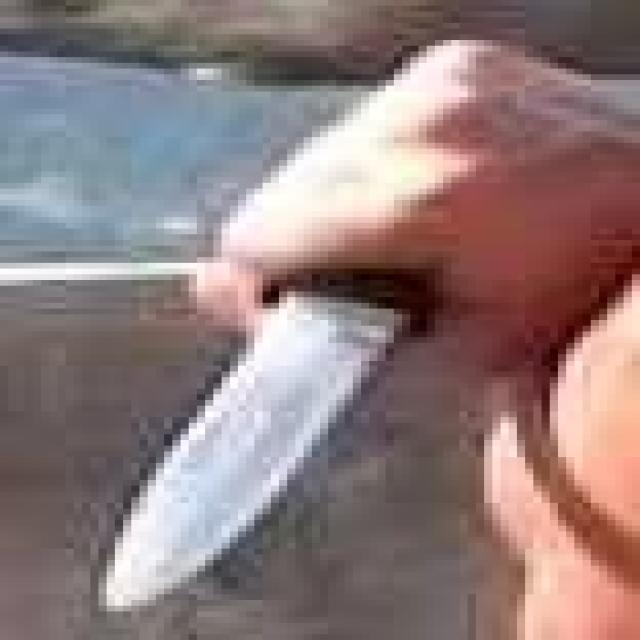knife: (47, 107, 540, 629)
